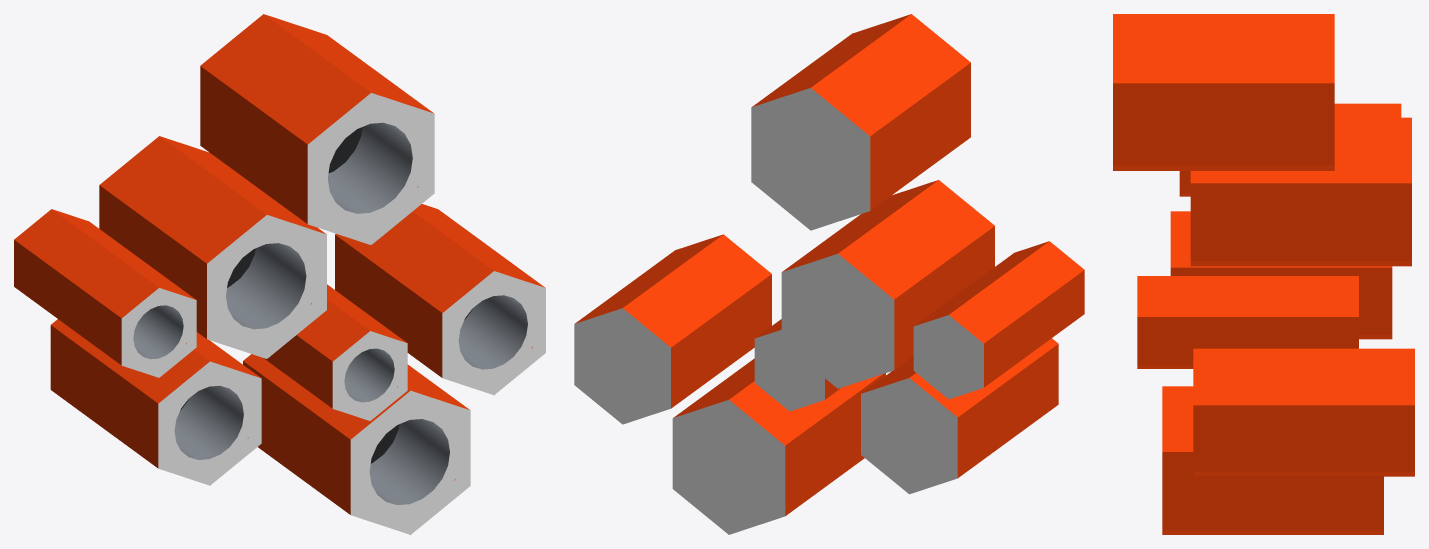
The model's file is wallplanters.fbx.
3 views of the same model, side by side, from view 1: azimuth 30°, elevation 25°; view 2: azimuth 150°, elevation 25°; view 3: azimuth 270°, elevation 25° (orthographic). The views are drawn at different scales.
Parts seen in each view (by area): view 1: pCylinder10, pCylinder11, pCylinder16, pCylinder15, pCylinder14, pCylinder13, pCylinder12; view 2: pCylinder10, pCylinder11, pCylinder16, pCylinder15, pCylinder14, pCylinder13, pCylinder12; view 3: pCylinder10, pCylinder16, pCylinder11, pCylinder12, pCylinder15, pCylinder14, pCylinder13.
Part boxes in pixels (x1,y1,x2,y2): pCylinder10: (200,14,434,244); pCylinder11: (99,136,326,358); pCylinder16: (335,204,545,394); pCylinder15: (243,354,470,534); pCylinder14: (50,319,261,485); pCylinder13: (14,209,196,377); pCylinder12: (264,284,407,420); pCylinder10: (751,14,970,230); pCylinder11: (781,180,994,388); pCylinder16: (574,234,771,424); pCylinder15: (672,358,885,534); pCylinder14: (861,338,1058,494); pCylinder13: (913,241,1084,399); pCylinder12: (754,319,840,411); pCylinder10: (1113,14,1334,170); pCylinder16: (1193,348,1414,476); pCylinder11: (1190,117,1411,266); pCylinder12: (1137,276,1358,368); pCylinder15: (1162,386,1383,534); pCylinder14: (1170,211,1392,339); pCylinder13: (1179,103,1401,196).
Bounding box in the file's own units: 0.0591 × 0.0623 × 0.0348.
